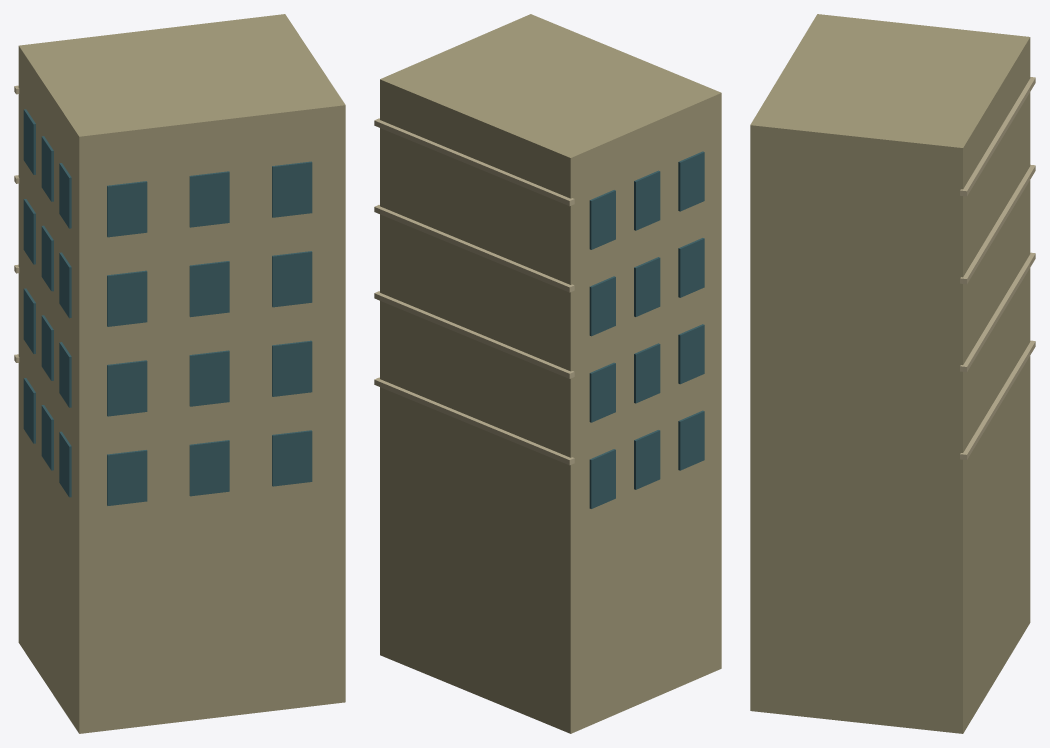
The model's file is unit_01.glb.
3 views of the same model, side by side, from view 1: azimuth 30°, elevation 25°; view 2: azimuth 150°, elevation 25°; view 3: azimuth 270°, elevation 25° (orthographic). The views are drawn at different scales.
Parts seen in each view (by area): view 1: unit_01; view 2: unit_01; view 3: unit_01.
Part boxes in pixels (x1,y1,x2,y2): unit_01: (14,14,345,733); unit_01: (374,14,721,733); unit_01: (750,14,1035,733).
Size of the model in its own units: 9.96 by 20 by 8.84.
